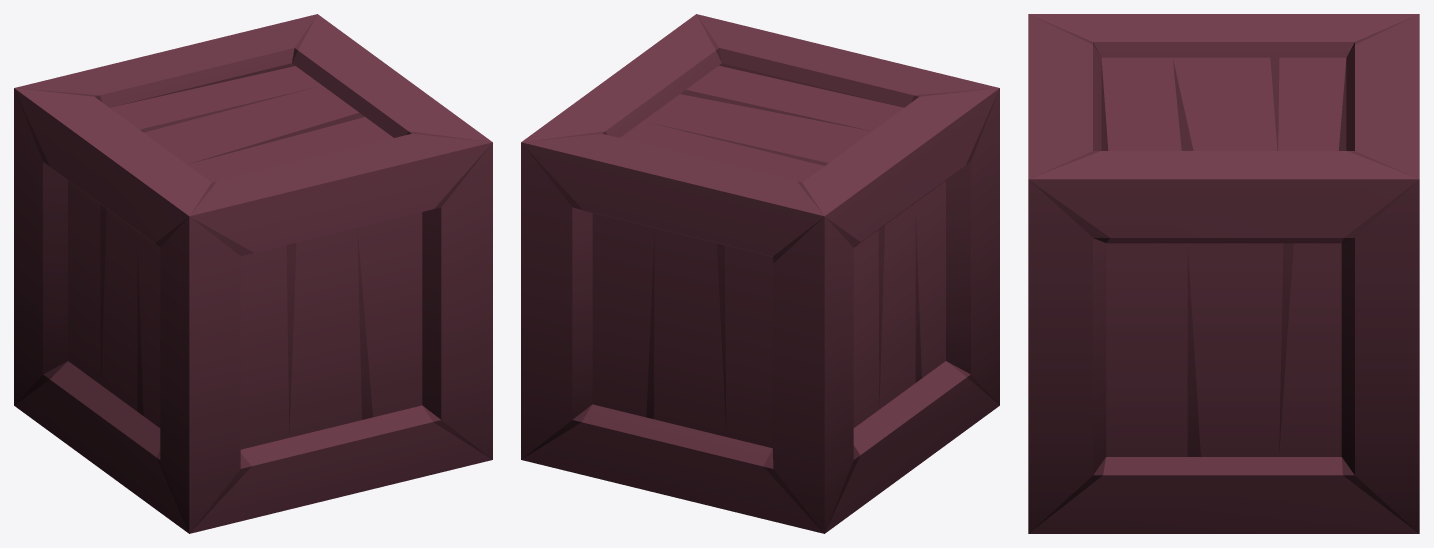
The model's file is crate.glb.
3 renders of one model, left to right at view 1: azimuth 30°, elevation 25°; view 2: azimuth 150°, elevation 25°; view 3: azimuth 270°, elevation 25°, orthographic. The views are drawn at different scales.
Visible parts, largest first — view 1: crate; view 2: crate; view 3: crate.
Boxes of the visible parts, x1=… form: crate: x1=14, y1=14, x2=492, y2=533; crate: x1=521, y1=14, x2=999, y2=533; crate: x1=1028, y1=14, x2=1419, y2=533.
Size of the model in its own units: 1.78 by 1.78 by 1.78.
Materials: 1 (1 with a texture image).
